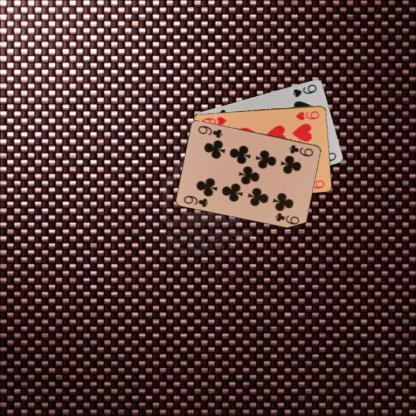9c: (181, 192, 210, 208), (287, 142, 314, 158)
9h: (293, 108, 321, 121)
9s: (290, 82, 318, 99)
